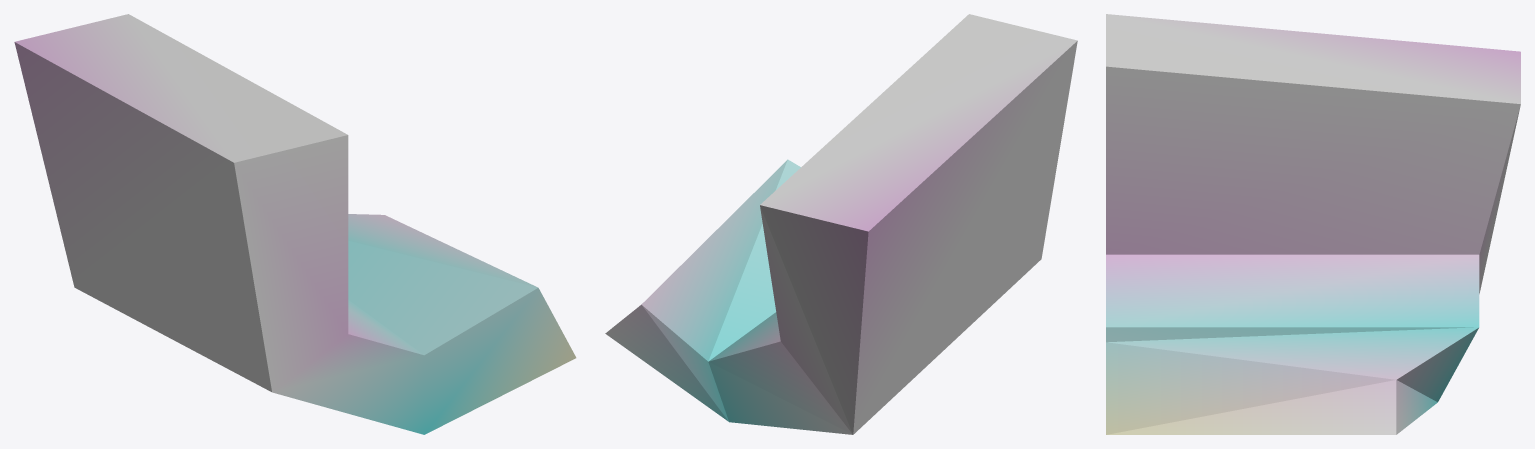
3 renders of one model, left to right at view 1: azimuth 30°, elevation 25°; view 2: azimuth 150°, elevation 25°; view 3: azimuth 270°, elevation 25°, orthographic. The views are drawn at different scales.
Parts seen in each view (by area): view 1: model_1155; view 2: model_1155; view 3: model_1155.
Part boxes in pixels (x1=…): model_1155: x1=14, y1=14, x2=576, y2=434; model_1155: x1=605, y1=14, x2=1077, y2=434; model_1155: x1=1106, y1=14, x2=1520, y2=434.
Bounding box in the file's own units: 9 × 8 × 10.
